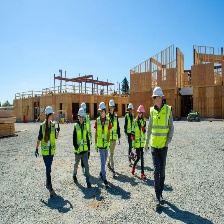helmet: (151, 86, 166, 101), (42, 107, 55, 118), (77, 107, 86, 121), (97, 102, 107, 112), (137, 105, 147, 115), (109, 98, 116, 108), (128, 103, 135, 111)
person: (148, 84, 176, 197), (37, 106, 59, 199), (95, 100, 114, 189), (72, 106, 89, 190), (132, 103, 149, 184), (107, 99, 123, 182), (125, 101, 139, 161)
vest: (148, 106, 174, 156), (39, 120, 58, 160), (97, 115, 111, 153), (74, 122, 88, 155), (133, 119, 147, 150), (108, 113, 118, 142), (124, 113, 135, 135)
